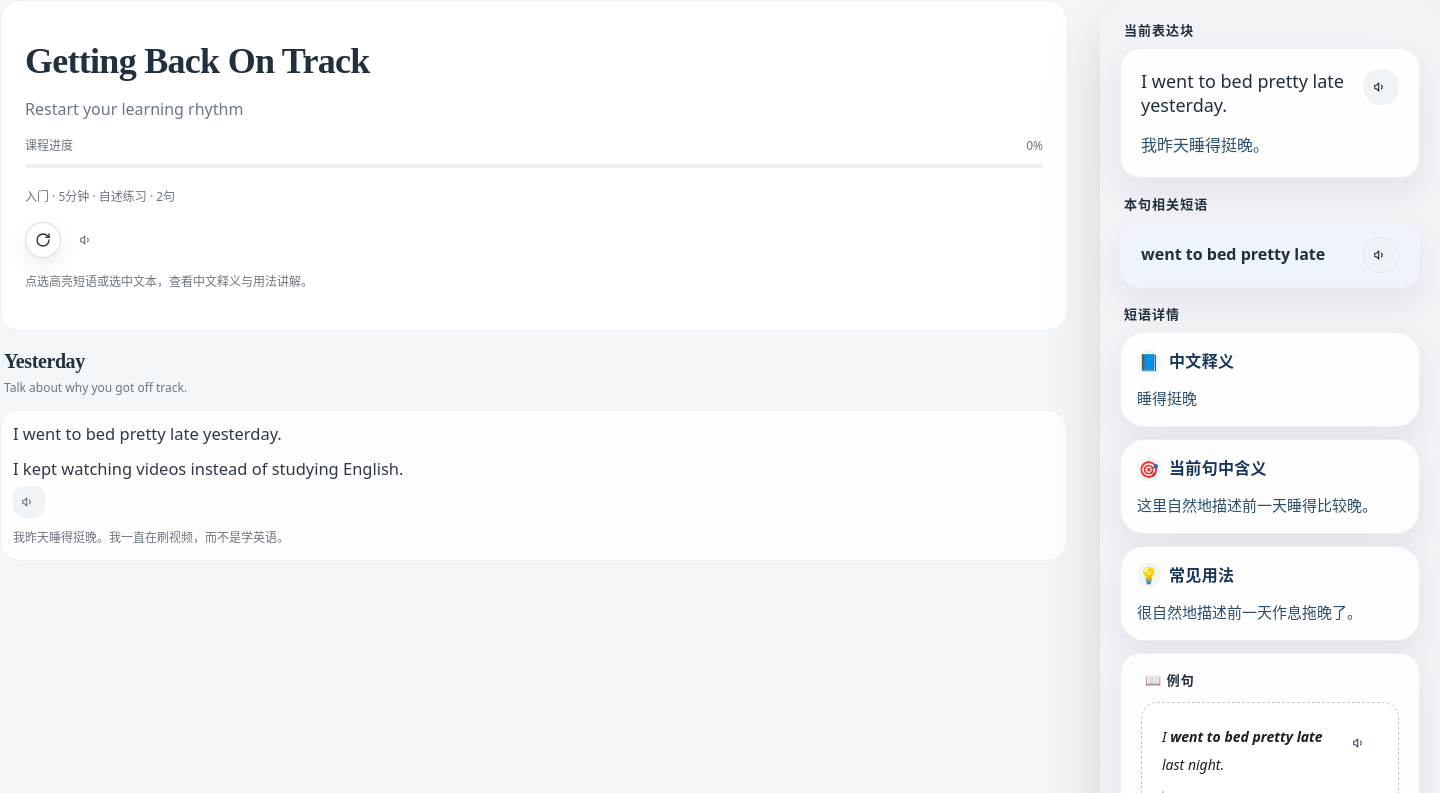
Scenario: LessonReader 收藏当前短语时会透传 payload 并更新已收藏状态
Click the button "went to bed pretty late" at (1246, 255), box [1141,242,1351,268]
(page scrolled)
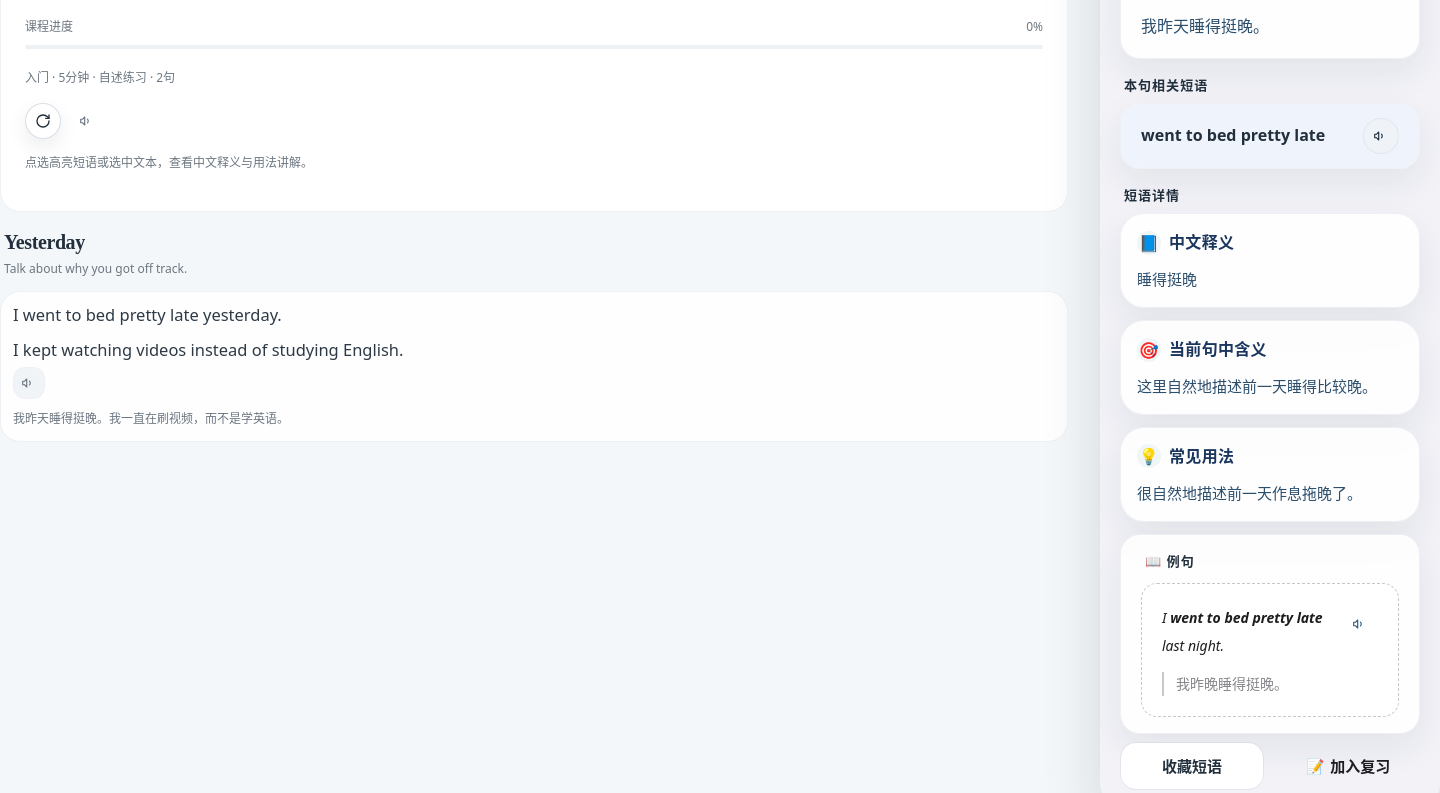
Expected: the text "睡得挺晚" is shown, [1137,269,1197,289]
Click the button "收藏短语" at (1192, 766), box [1120,742,1264,790]
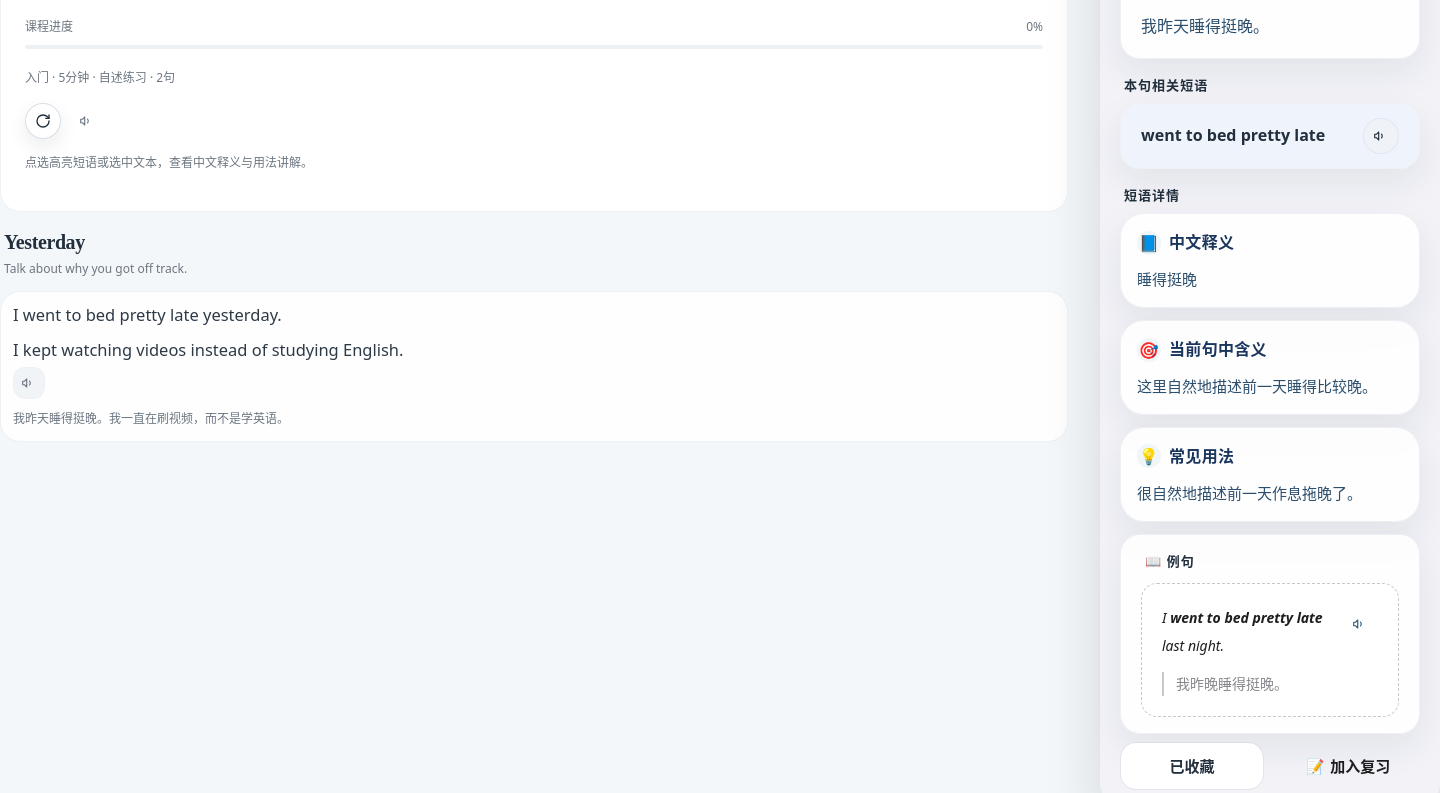
Result: the button "已收藏" is shown at [1120,742,1264,790]
